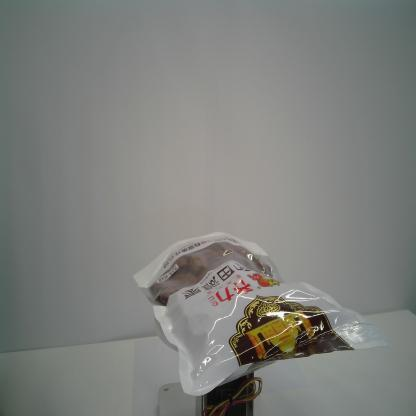Dried Food: (130, 230, 391, 396)
